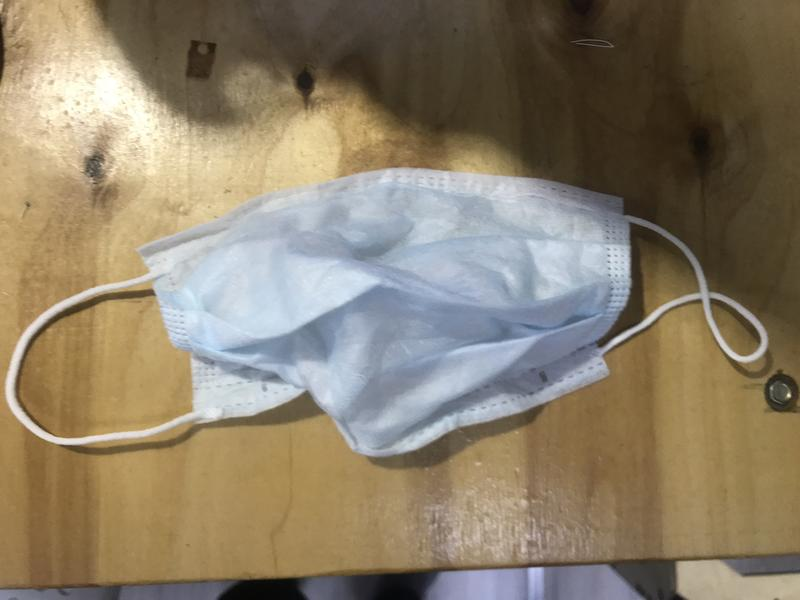medical_mask: (5, 165, 769, 458)
